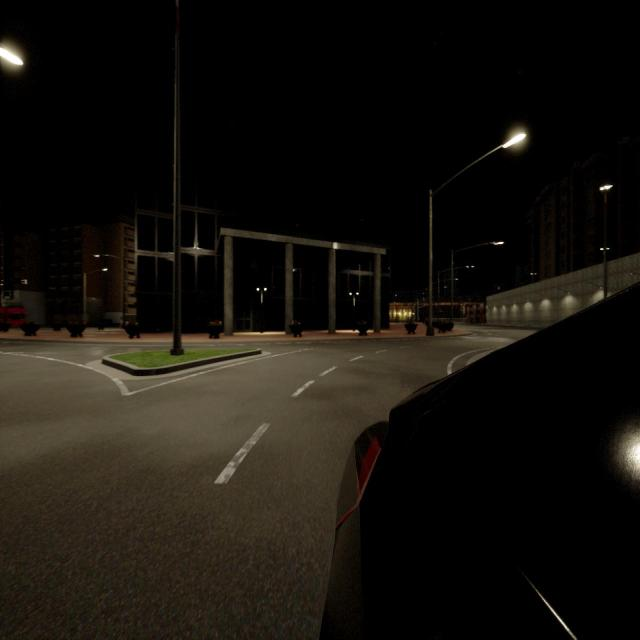Vehicle: (324, 287, 640, 638), (1, 301, 24, 331)
